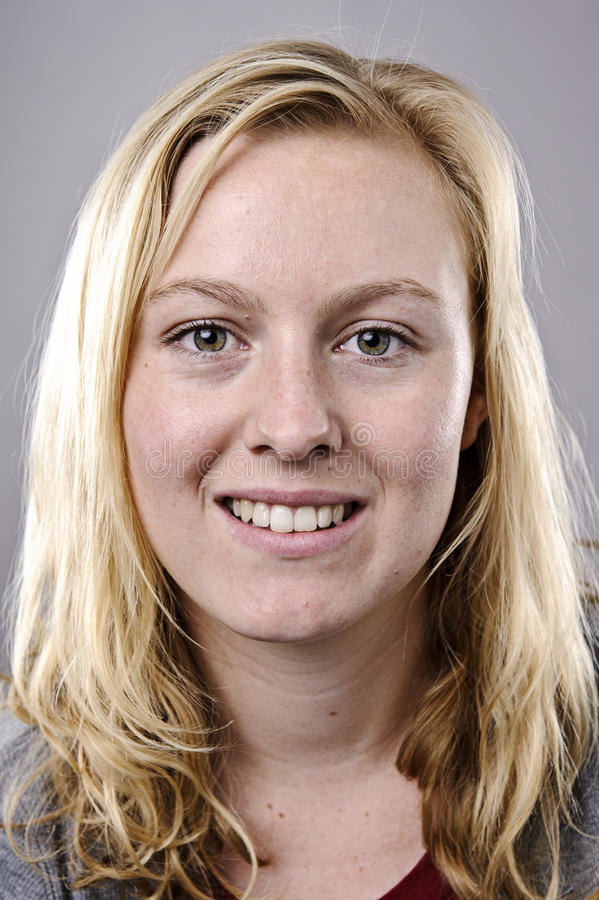No Mask: (127, 399, 494, 645)
